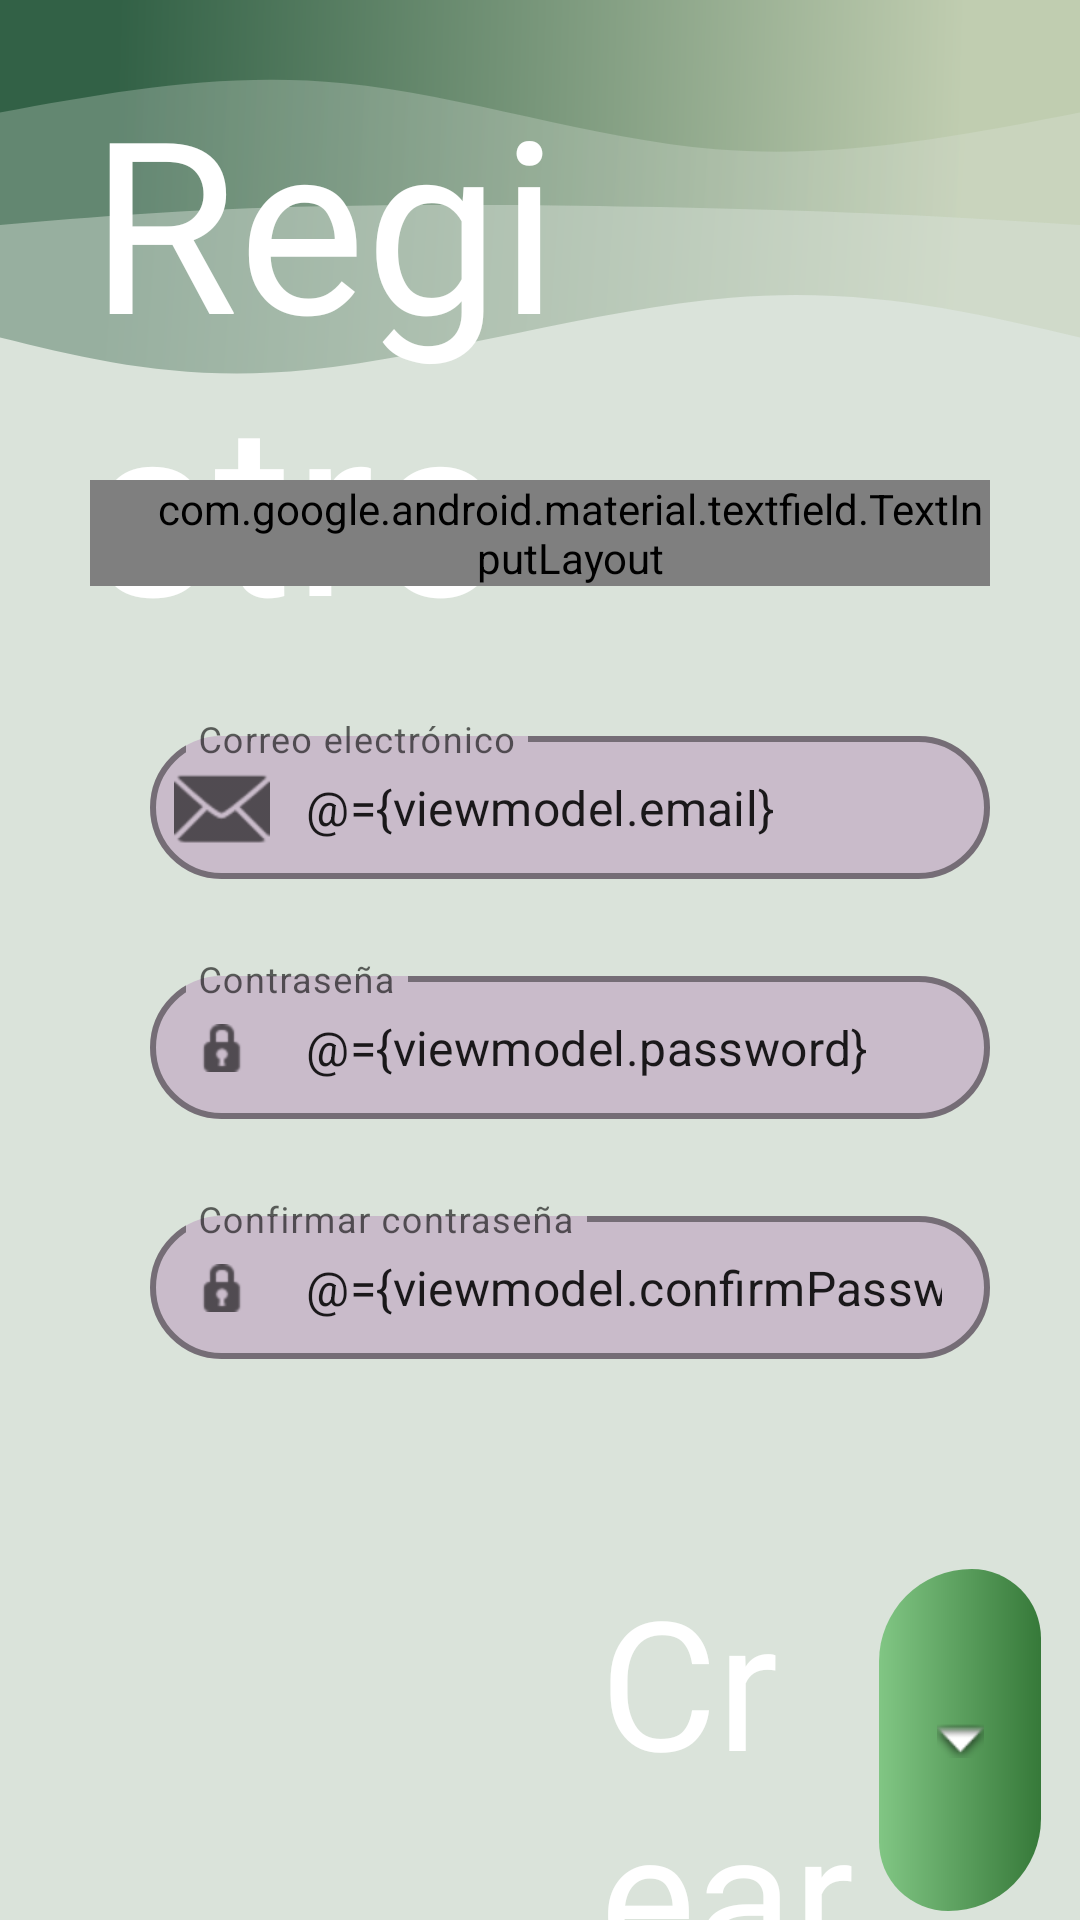

Named icons in this screenshot (1080 x 1920) and their centers, point (x, y):
arrow down float: point (960, 1740)
